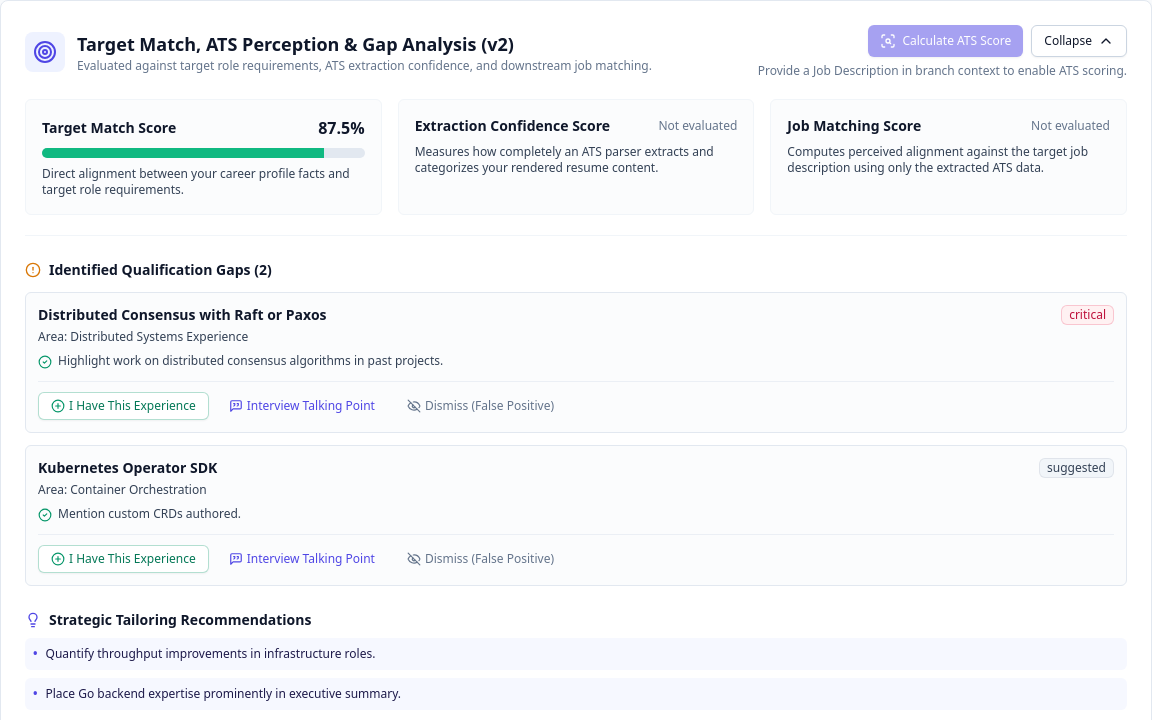
GapAnalysisCard › supports dismissing a false positive gap and restoring it
This screenshot has width=1152, height=720.
Click the button "Dismiss (False Positive)" below "Distributed Systems Experience": (480, 406) x1=395 y1=392 x2=566 y2=420
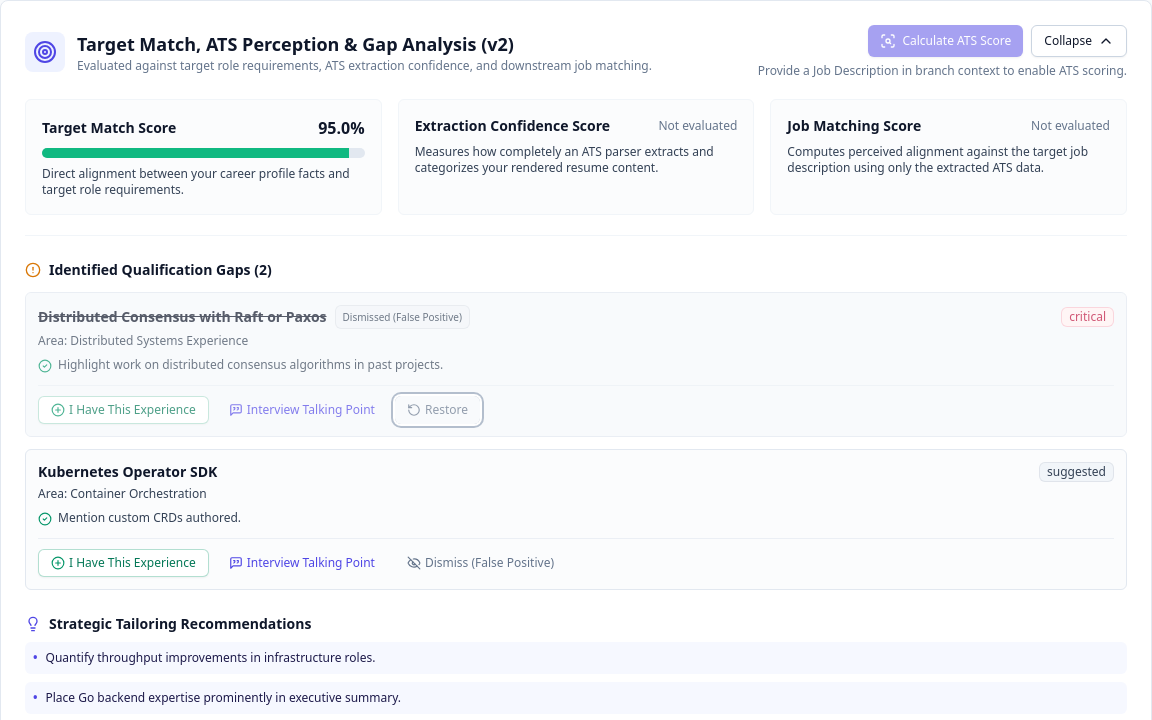
Expected: the text "Dismissed (False Positive)" is shown, x1=334 y1=305 x2=470 y2=329
Note: Can restore
Click the button "Restore": (437, 410) x1=395 y1=396 x2=480 y2=424
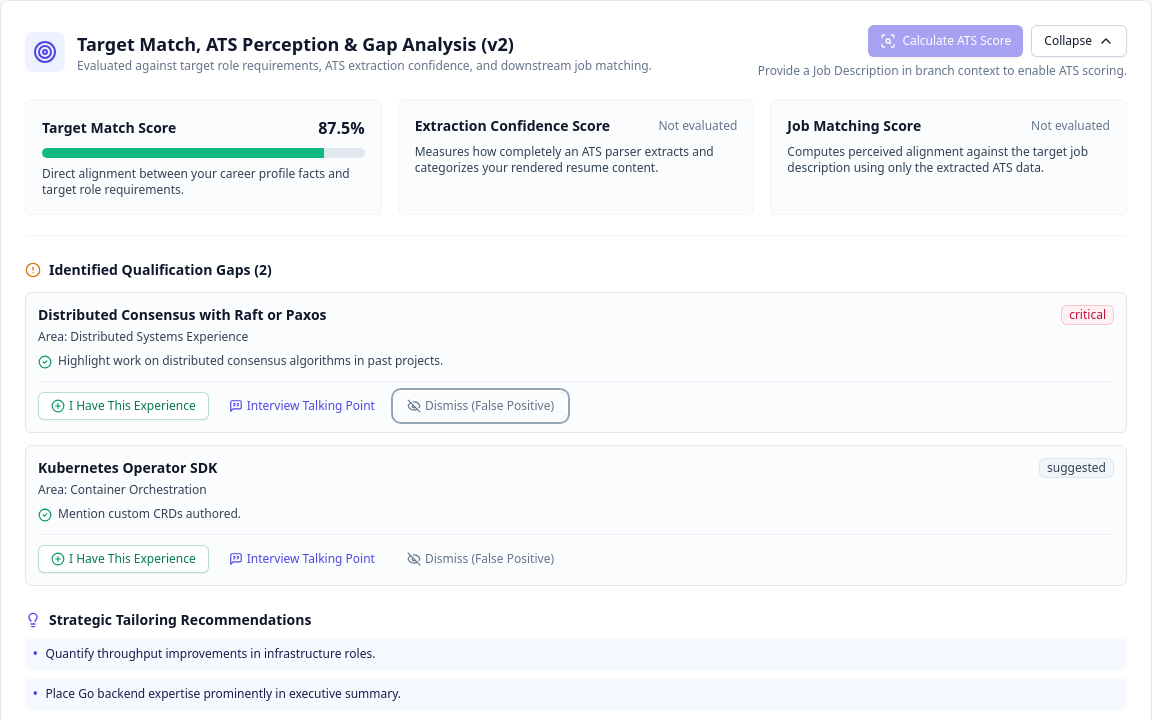
Expected: the text "Dismissed" is gone
